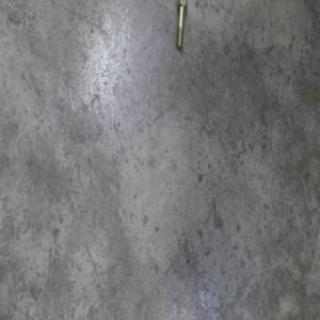Bolttrack_idkeyframe: (173, 4, 187, 55)
